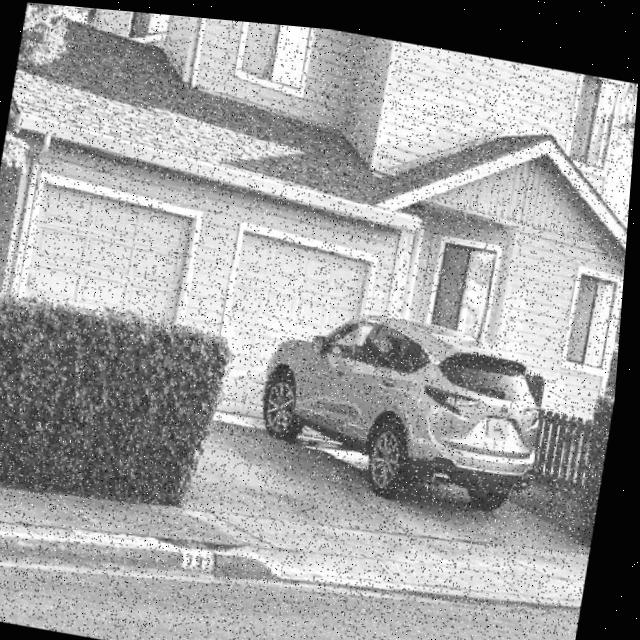LicensePlate: (492, 409, 514, 428)
